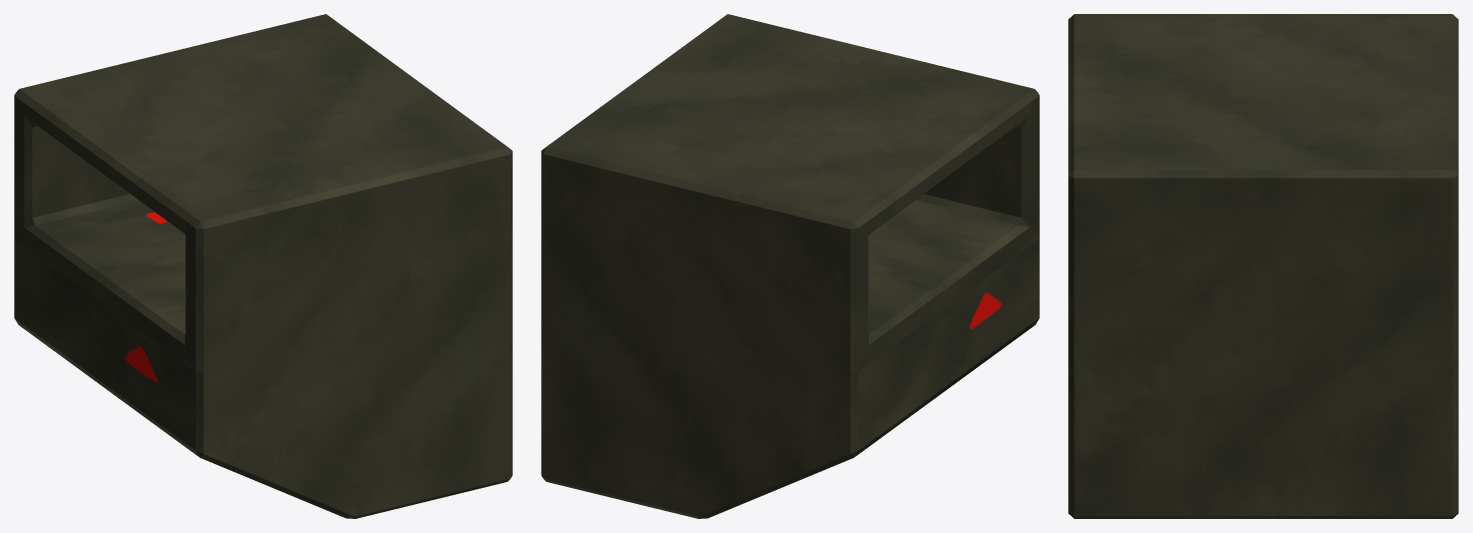
Rendered from laatikko2.fbx.
The picture shows the model from 3 angles, left to right: view 1: azimuth 30°, elevation 25°; view 2: azimuth 150°, elevation 25°; view 3: azimuth 270°, elevation 25°; orthographic projection. The views are drawn at different scales.
Visible parts, largest first — view 1: Cube; view 2: Cube; view 3: Cube.
Part boxes in pixels (x1,y1,x2,y2): Cube: (14, 14, 512, 518); Cube: (541, 14, 1039, 518); Cube: (1068, 14, 1458, 518).
Bounding box in the file's own units: 3.99 × 4.02 × 4.08.
